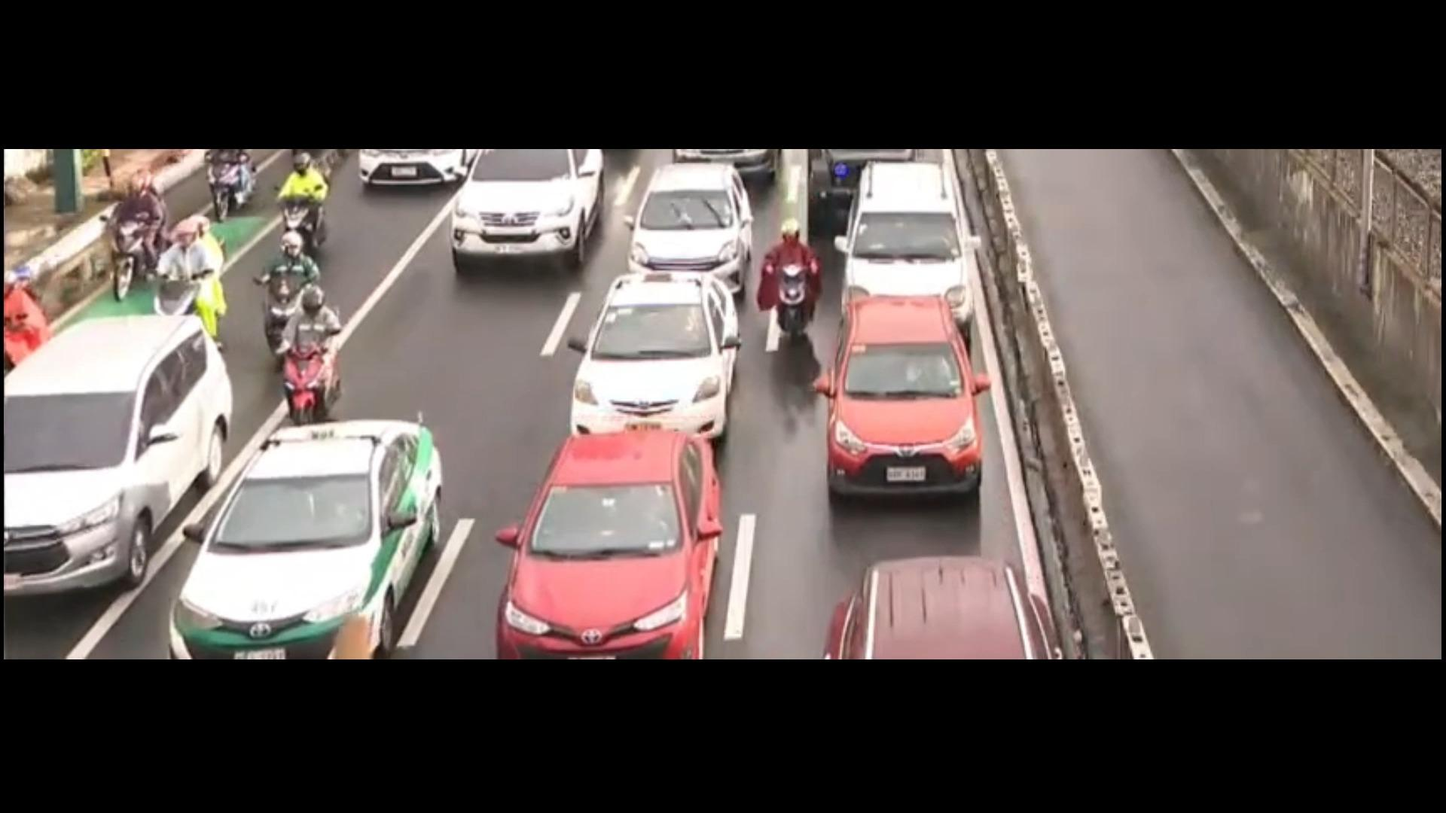Motorcycle: (263, 271, 373, 431), (94, 172, 177, 300), (757, 224, 836, 351), (257, 234, 334, 339), (156, 222, 228, 328), (0, 262, 57, 360), (281, 145, 336, 237), (200, 143, 250, 213)
SUV: (0, 315, 251, 599), (808, 288, 1007, 518), (422, 149, 617, 286), (838, 149, 995, 316), (614, 153, 767, 297)
Sedan: (153, 399, 486, 661), (481, 418, 754, 658), (563, 245, 745, 485)
